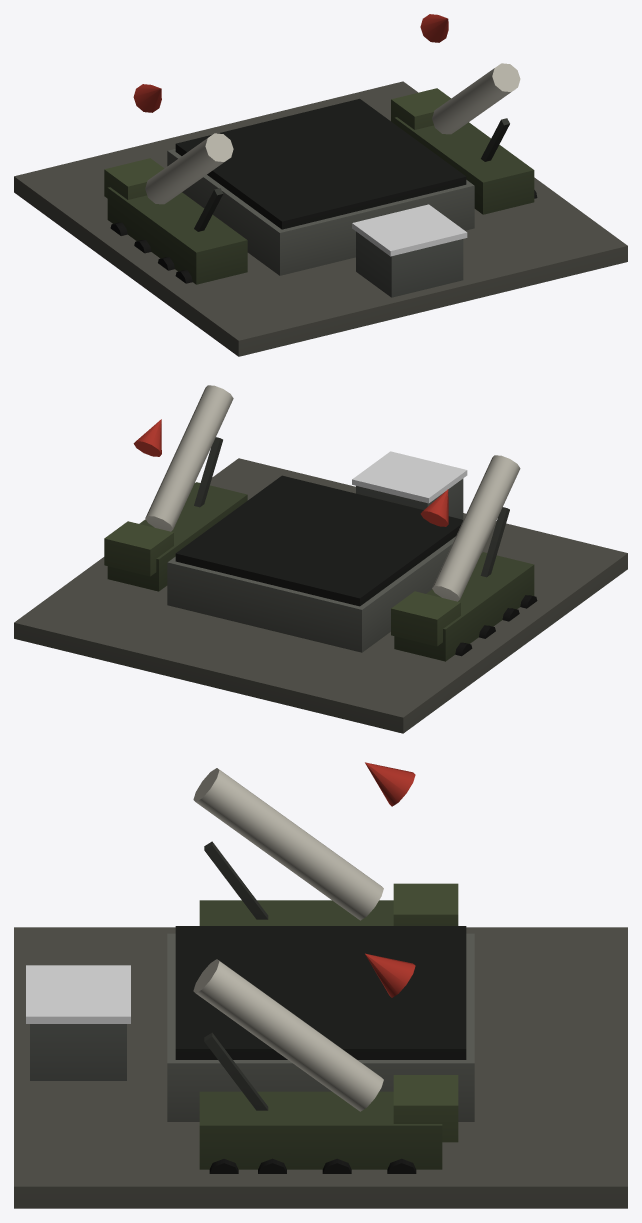
Rendered from m_uplink_5d52cffb.glb.
The picture shows the model from 3 angles, top to bottom: view 1: azimuth 30°, elevation 25°; view 2: azimuth 150°, elevation 25°; view 3: azimuth 270°, elevation 25°; orthographic projection. The views are drawn at different scales.
Parts seen in each view (by area): view 1: mesh; view 2: mesh; view 3: mesh.
Part boxes in pixels (x1,y1,x2,y2): mesh: (14,14,627,356); mesh: (14,385,627,733); mesh: (14,762,627,1208).
Size of the model in its own units: 76 by 30.19 by 76.
